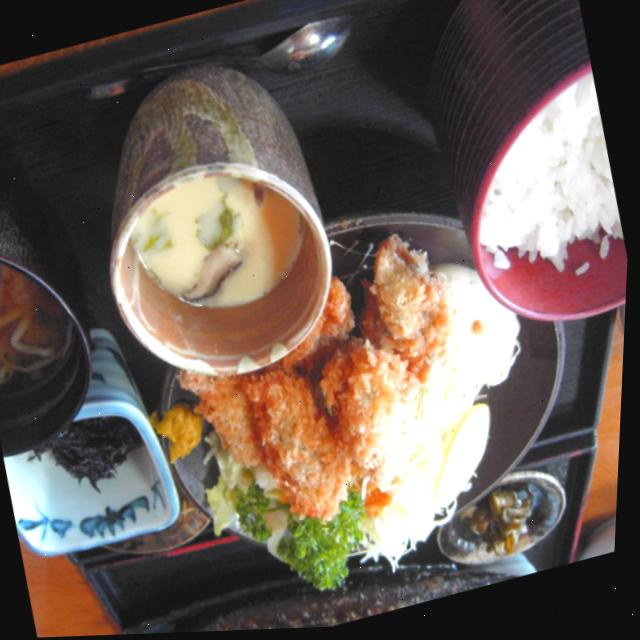鸡蛋料理: (61, 12, 362, 404)
